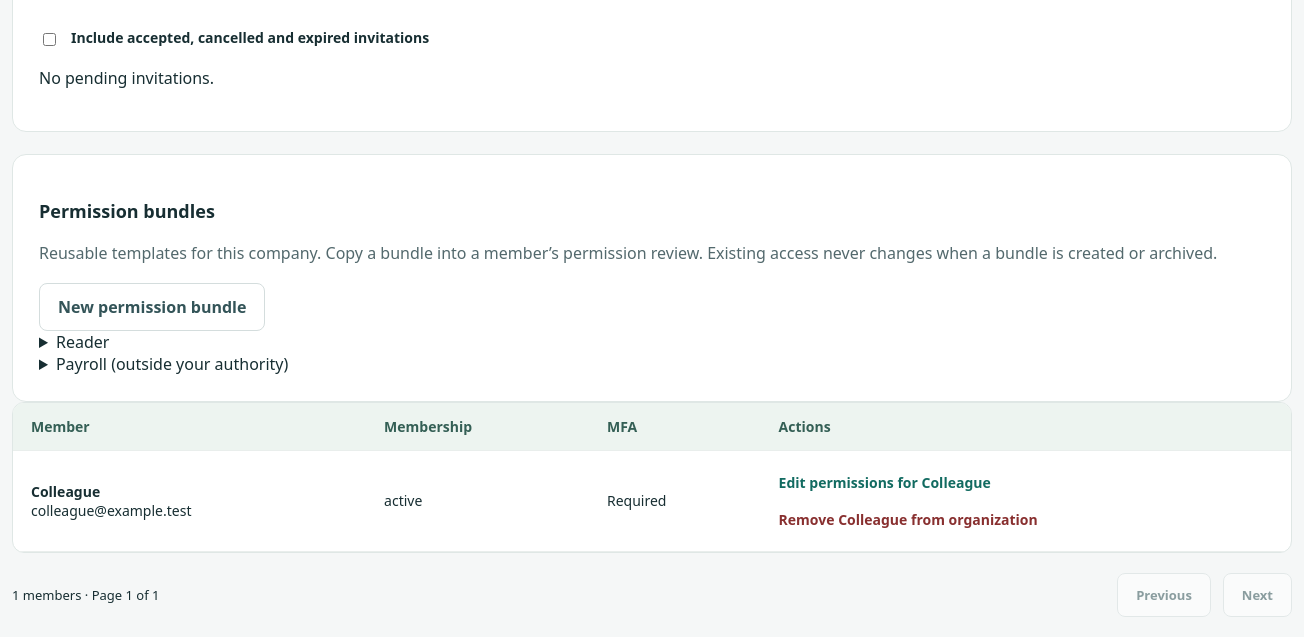
it: copies a bundle only when Add is clicked, adding delegable permissions and announcing them
The width and height of the screenshot is (1304, 637).
(page scrolled)
Click the button "Edit permissions for Colleague": (885, 482) [779, 465, 991, 500]
(page scrolled)
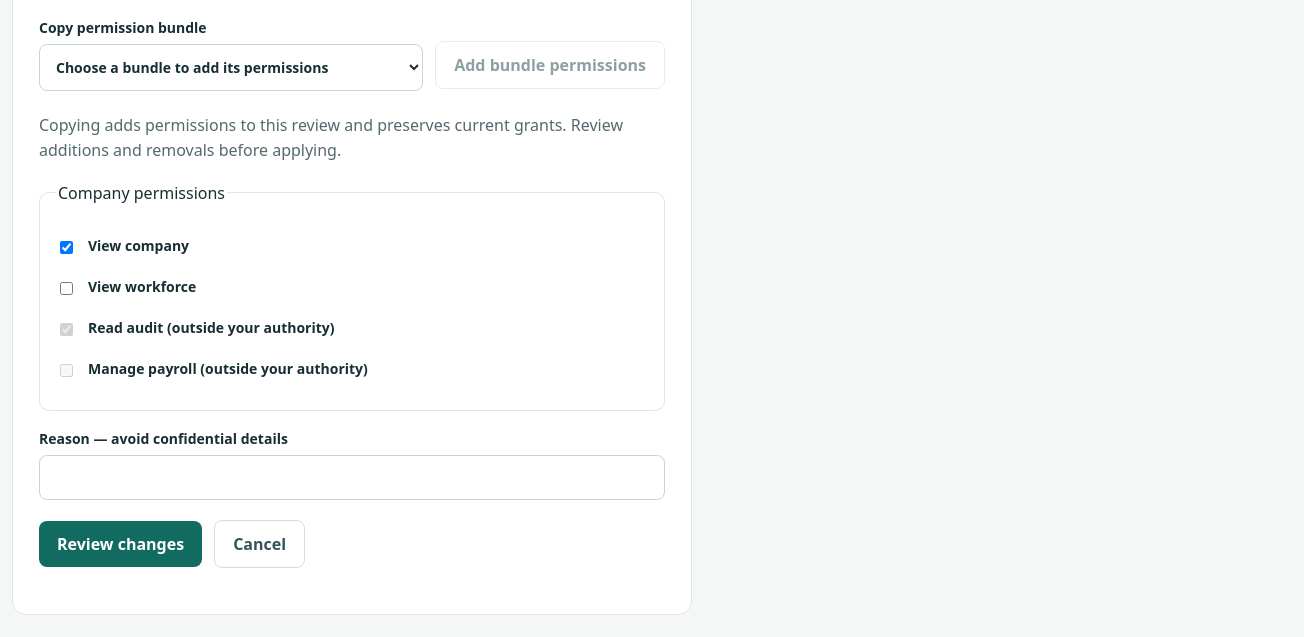
Expected: the button "Add bundle permissions" is disabled, [435, 41, 665, 89]
Select "Reader" in the dropdown labelled "Copy permission bundle": (231, 67) [39, 44, 423, 91]
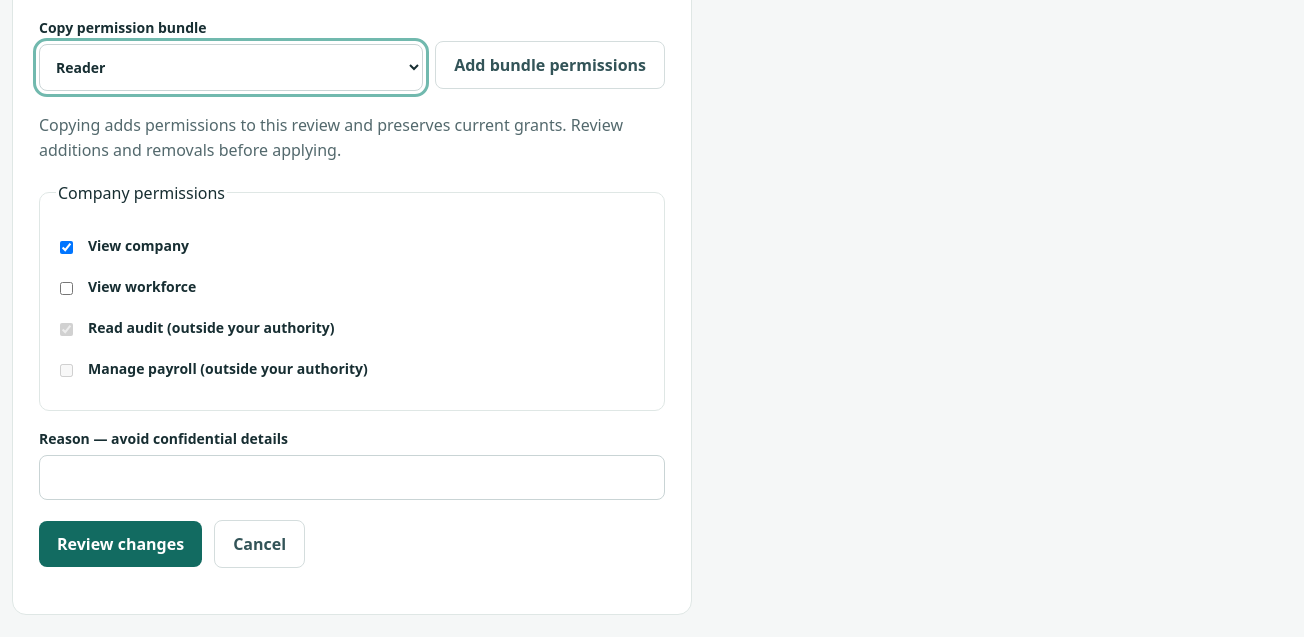
Expected: the checkbox labelled "View workforce" is not checked, [60, 282, 73, 295]
Expected: the button "Add bundle permissions" is enabled
Click the button "Add bundle permissions": (550, 65) [435, 41, 665, 89]
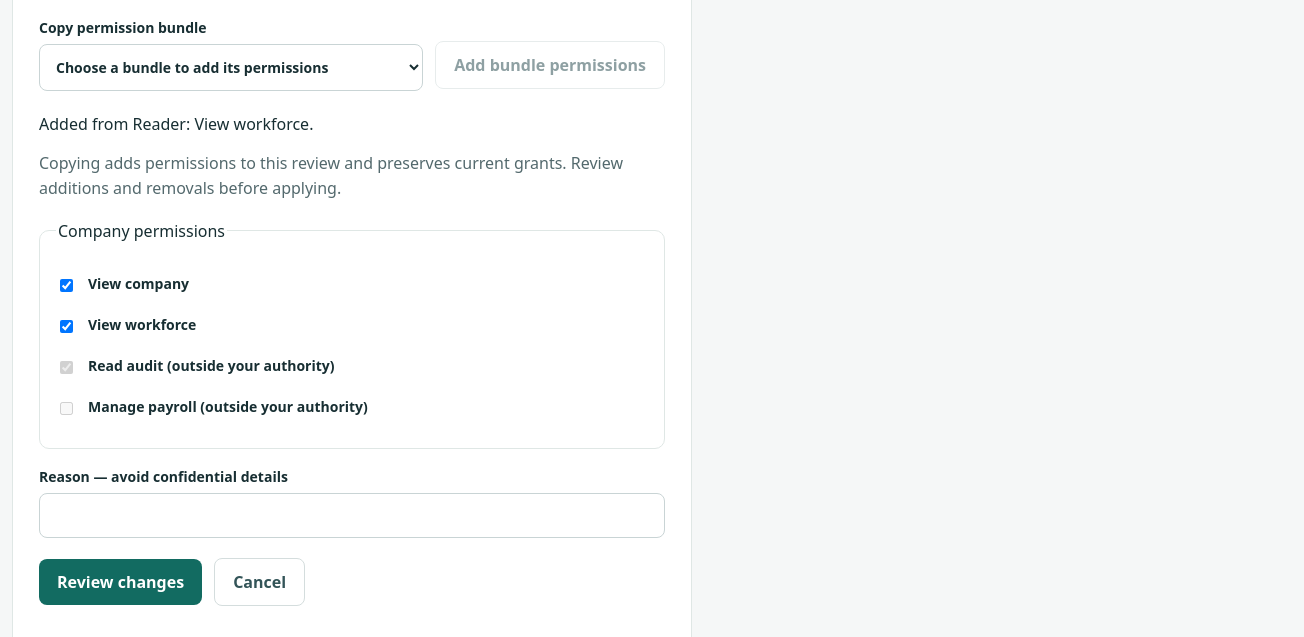
Expected: the checkbox labelled "View company" is checked, [60, 279, 73, 292]
Expected: the checkbox labelled "Read audit (outside your authority)" is checked, [60, 361, 73, 374]
Expected: the checkbox labelled "View workforce" is checked, [60, 320, 73, 333]
Select "Reader" in the dropdown labelled "Copy permission bundle": (231, 67) [39, 44, 423, 91]
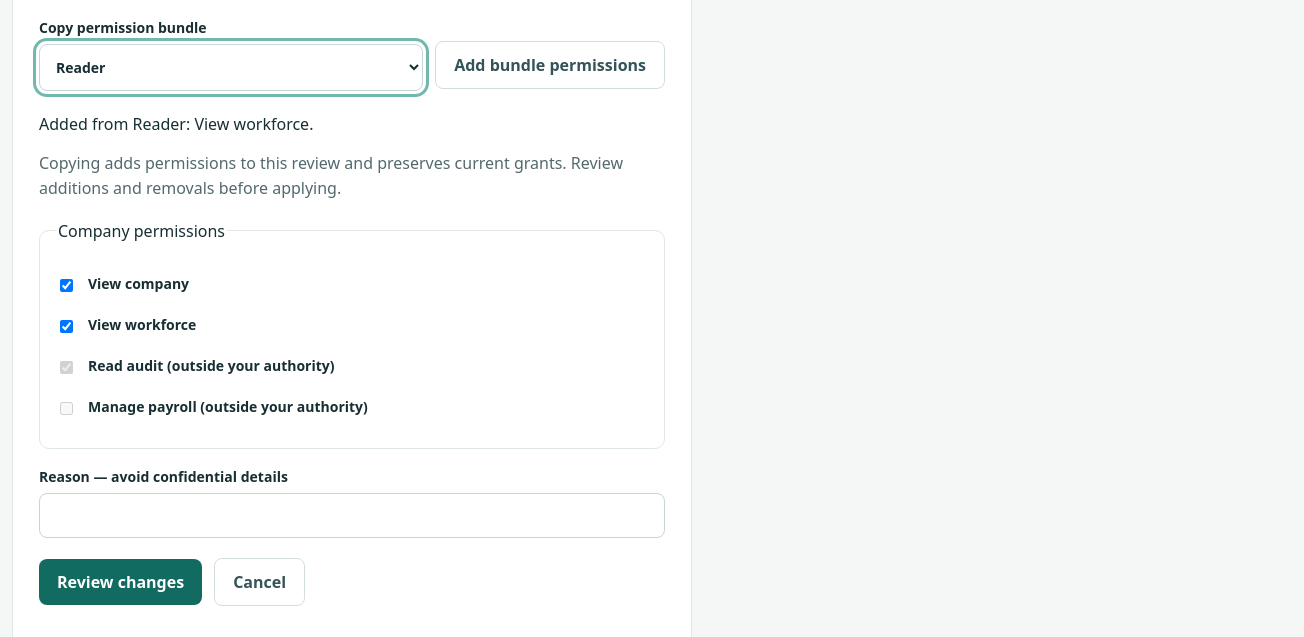
Click the button "Add bundle permissions": (550, 65) [435, 41, 665, 89]
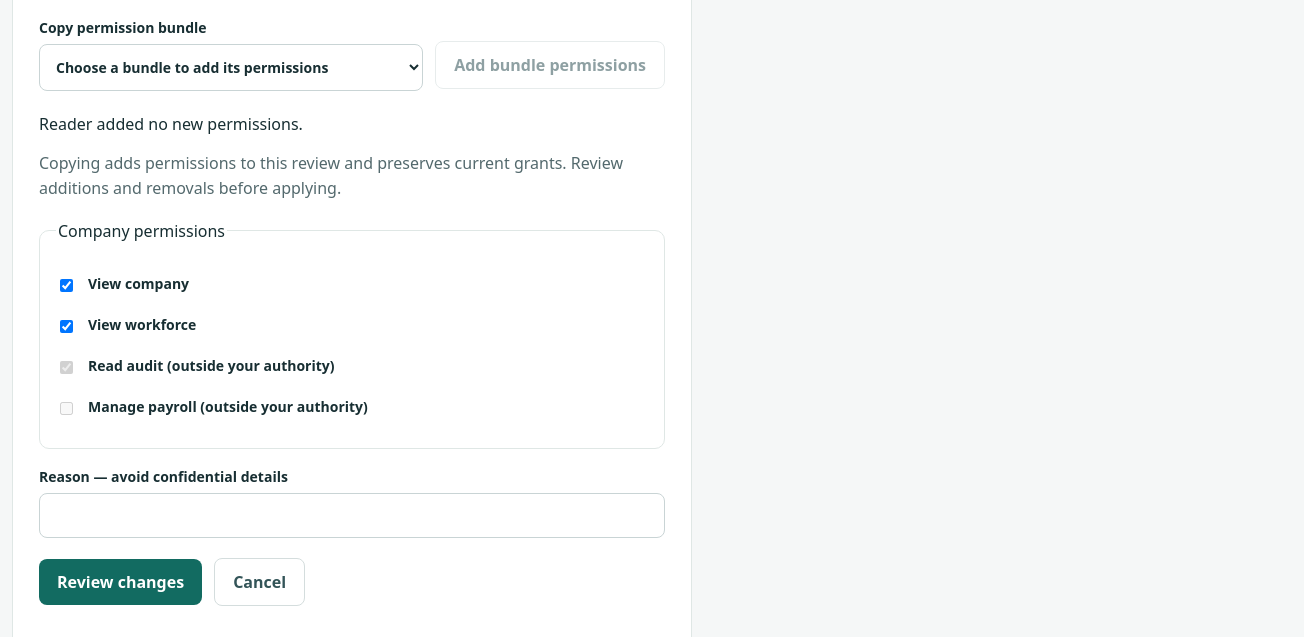
Expected: the text "Reader added no new permissions." is shown, [39, 113, 303, 135]
